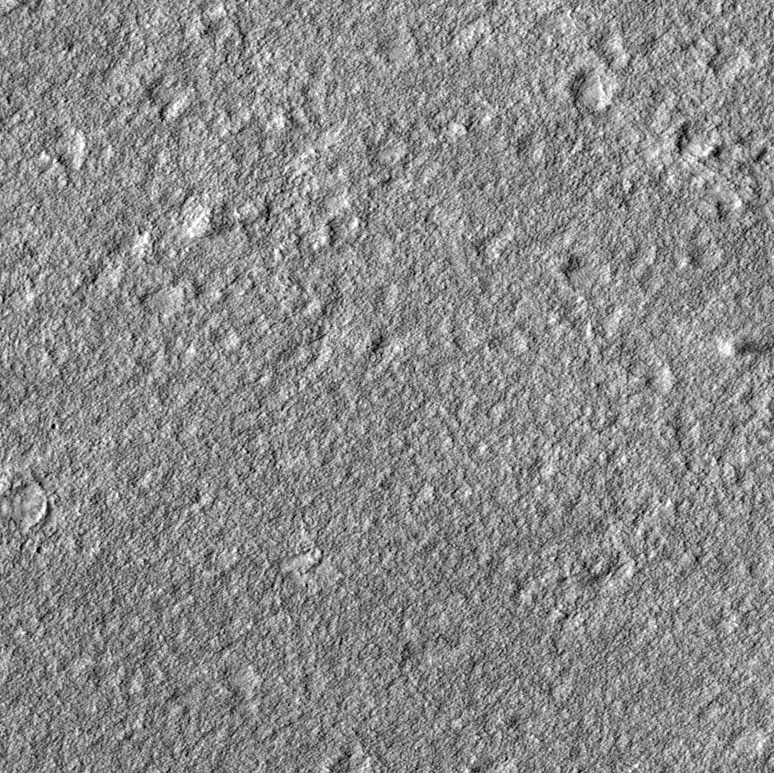dust_devil: (719, 334, 774, 360)
